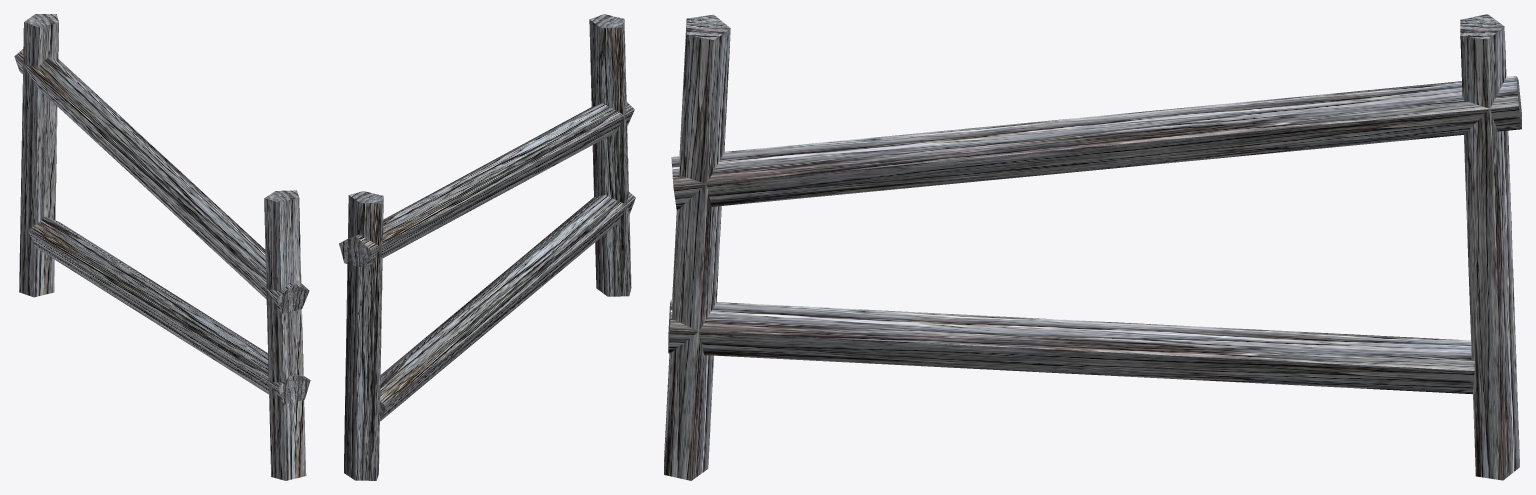
The model's file is wood_fence.glb.
3 views of the same model, side by side, from view 1: azimuth 30°, elevation 25°; view 2: azimuth 150°, elevation 25°; view 3: azimuth 270°, elevation 25° (orthographic). The views are drawn at different scales.
Visible parts, largest first — view 1: Cylinder.002, Cylinder.003, Cylinder, Cylinder.001; view 2: Cylinder.003, Cylinder.002, Cylinder.001, Cylinder; view 3: Cylinder.002, Cylinder.003, Cylinder.001, Cylinder.
Boxes of the visible parts, left/top/right/bottom form: Cylinder.002: left=14, top=49, right=309, bottom=313; Cylinder.003: left=28, top=216, right=310, bottom=404; Cylinder: left=264, top=190, right=306, bottom=480; Cylinder.001: left=19, top=14, right=58, bottom=297; Cylinder.003: left=380, top=192, right=635, bottom=421; Cylinder.002: left=339, top=102, right=634, bottom=267; Cylinder.001: left=344, top=191, right=383, bottom=480; Cylinder: left=589, top=14, right=631, bottom=296; Cylinder.002: left=671, top=76, right=1521, bottom=210; Cylinder.003: left=668, top=299, right=1474, bottom=394; Cylinder.001: left=1460, top=14, right=1519, bottom=480; Cylinder: left=664, top=14, right=730, bottom=480.
Size of the model in its own units: 0.6537 by 5.22 by 9.18.
Materials: 4 (4 with a texture image).
